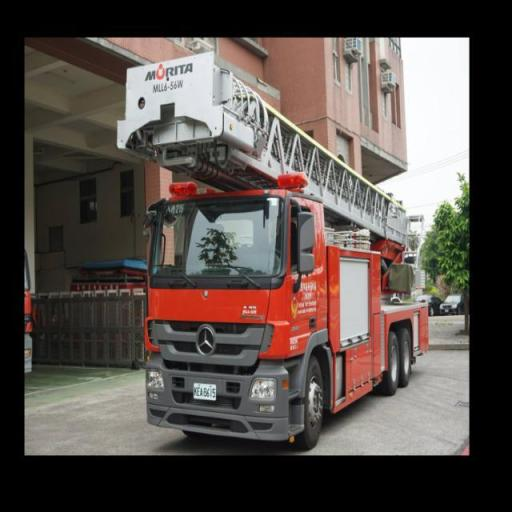fire truck: (89, 25, 455, 437)
